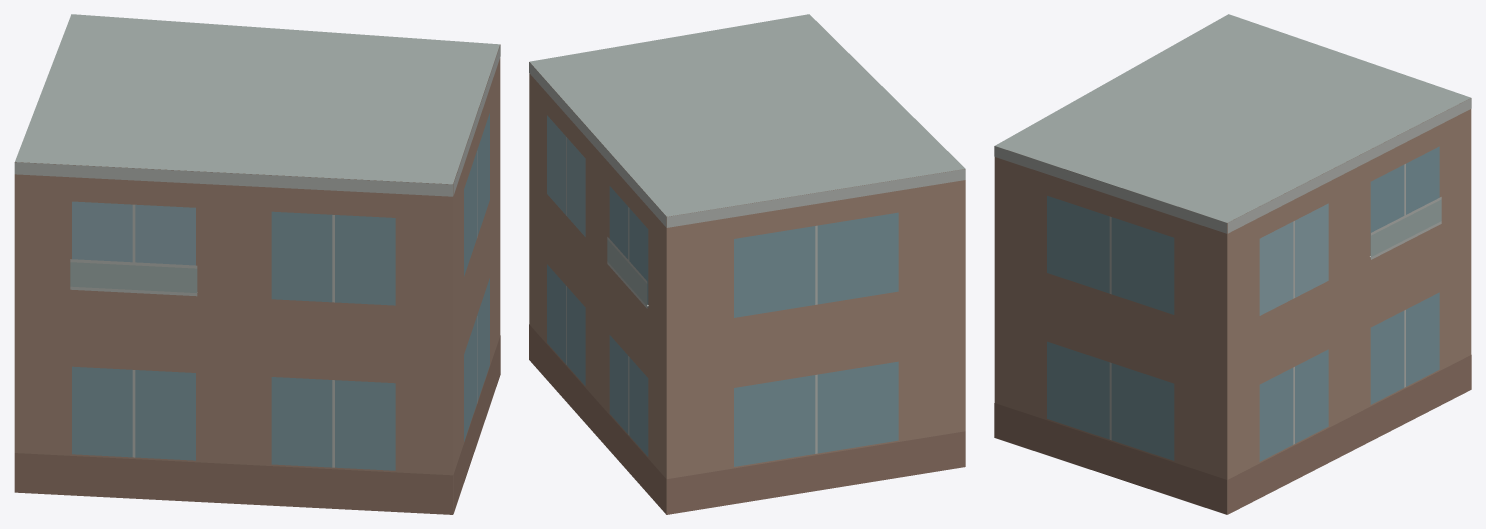
The model's file is survey-upis-32456705.glb.
3 views of the same model, side by side, from view 1: azimuth 30°, elevation 25°; view 2: azimuth 150°, elevation 25°; view 3: azimuth 270°, elevation 25° (orthographic). The views are drawn at different scales.
Visible parts, largest first — view 1: survey-upis-32456705.tmp; view 2: survey-upis-32456705.tmp; view 3: survey-upis-32456705.tmp.
Boxes of the visible parts, x1,y1,x2,y2 form: survey-upis-32456705.tmp: [14, 14, 500, 514]; survey-upis-32456705.tmp: [529, 14, 965, 514]; survey-upis-32456705.tmp: [994, 14, 1471, 514].
Size of the model in its own units: 9.99 by 6.5 by 9.63.
